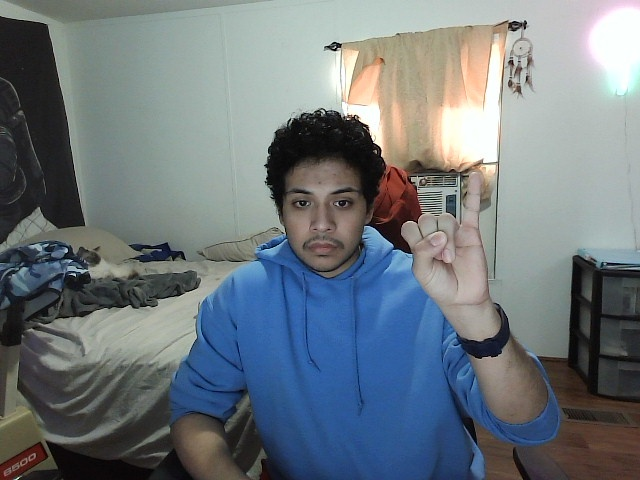I: (400, 169, 501, 305)
